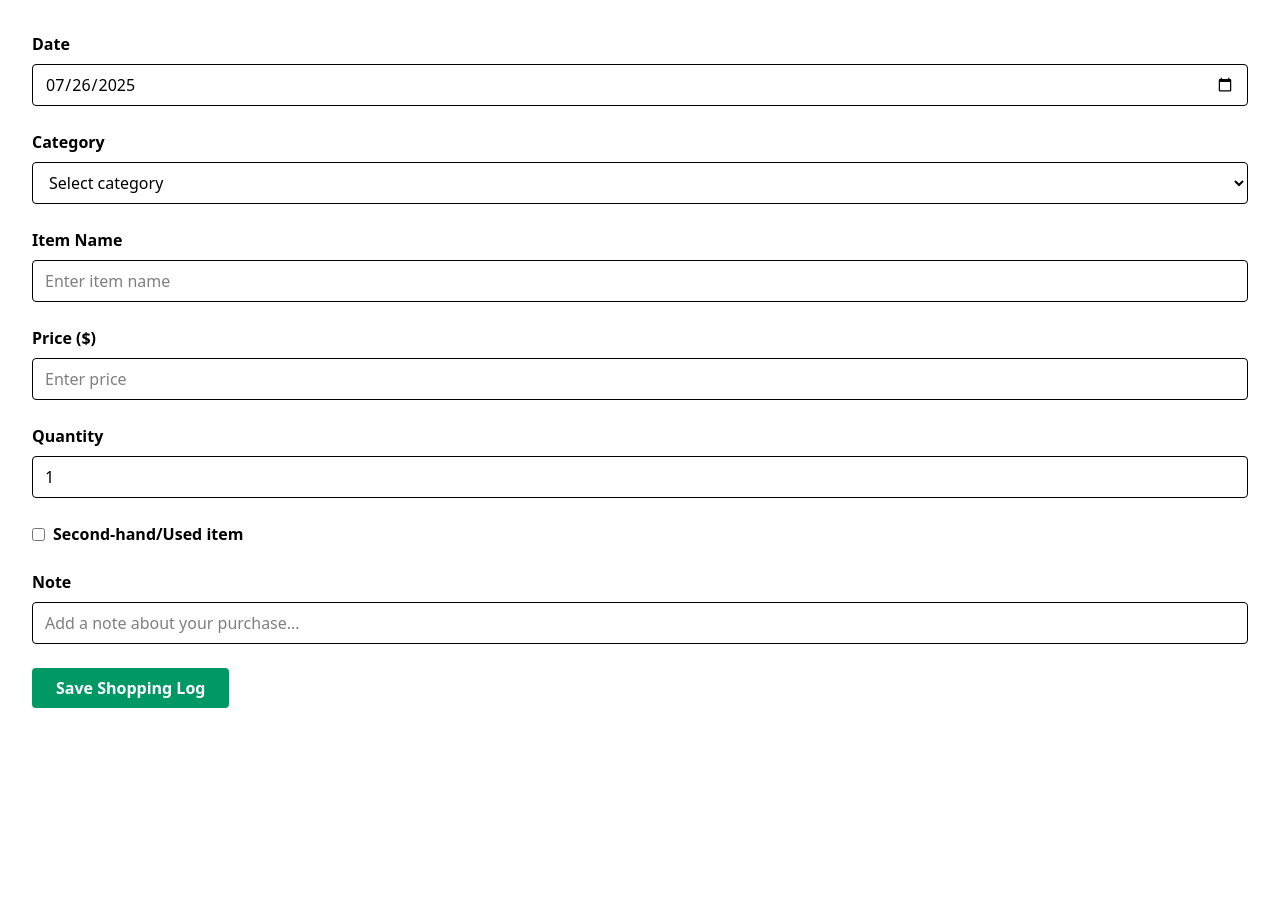
Test: CreateShoppingLog › handles decimal prices correctly
The image size is (1280, 900).
Type "12.50" into the number field labelled "Price ($)".
click(640, 379); type("12.50")  # box [32,358,1248,400]
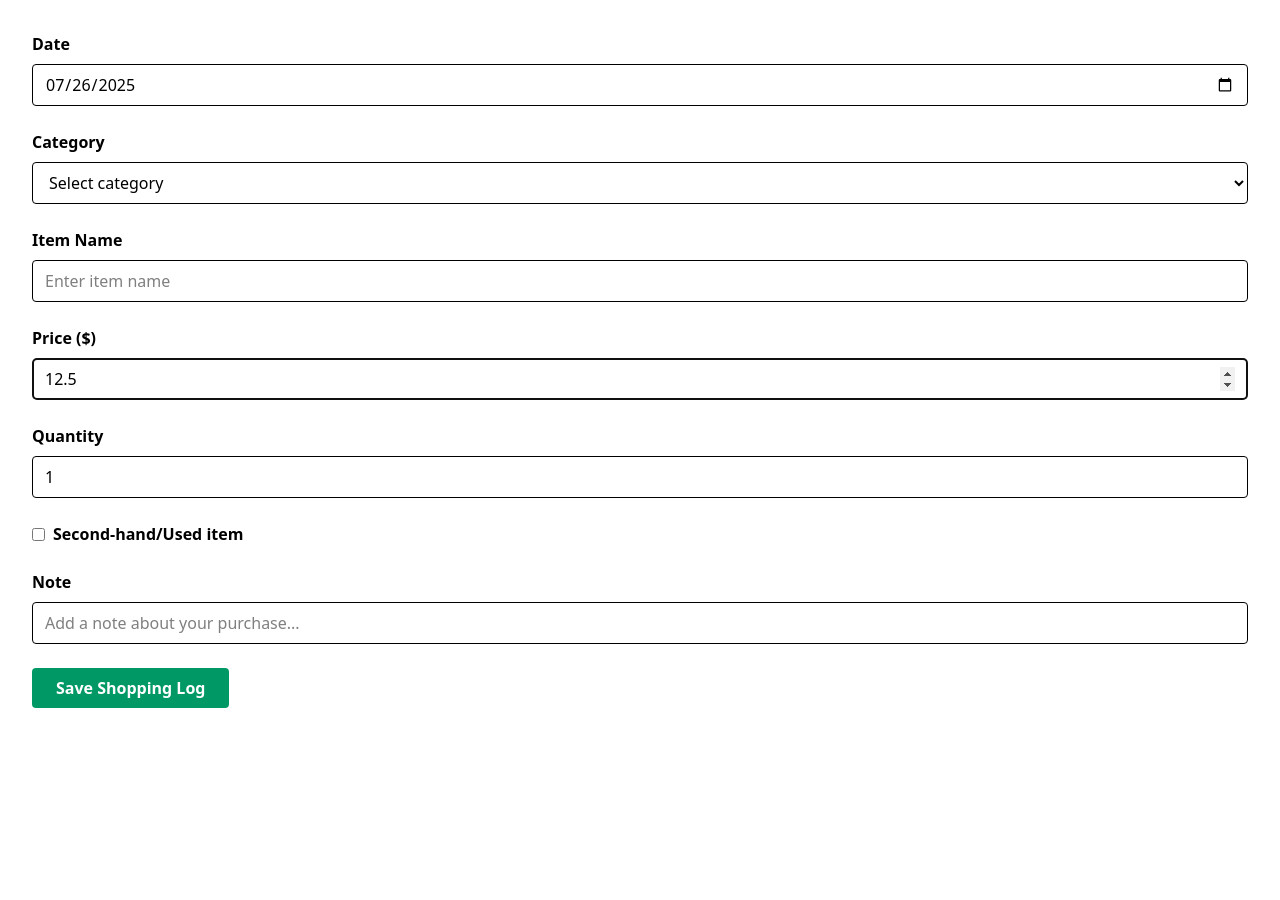
expect the number field labelled "Price ($)" holds "12.5": met, box [32,358,1248,400]
